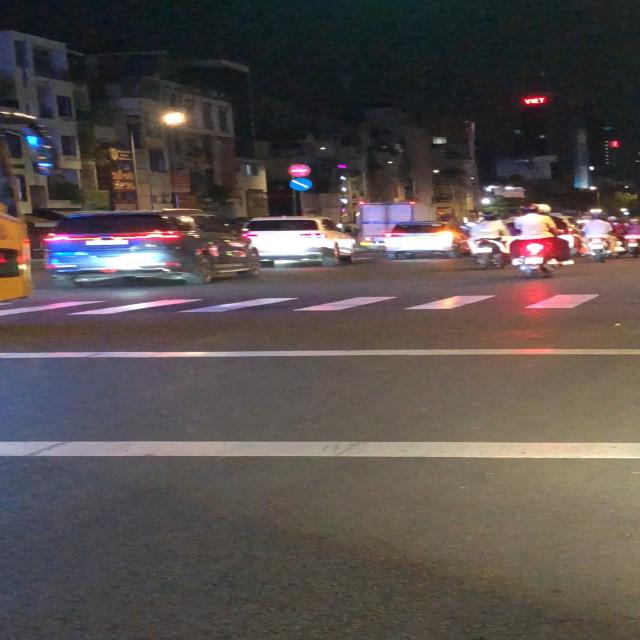Bien bao cam di nguoc chieu: (288, 164, 313, 177)
Bien bao huong phai di vong chuong ngai vat: (289, 177, 314, 192)
